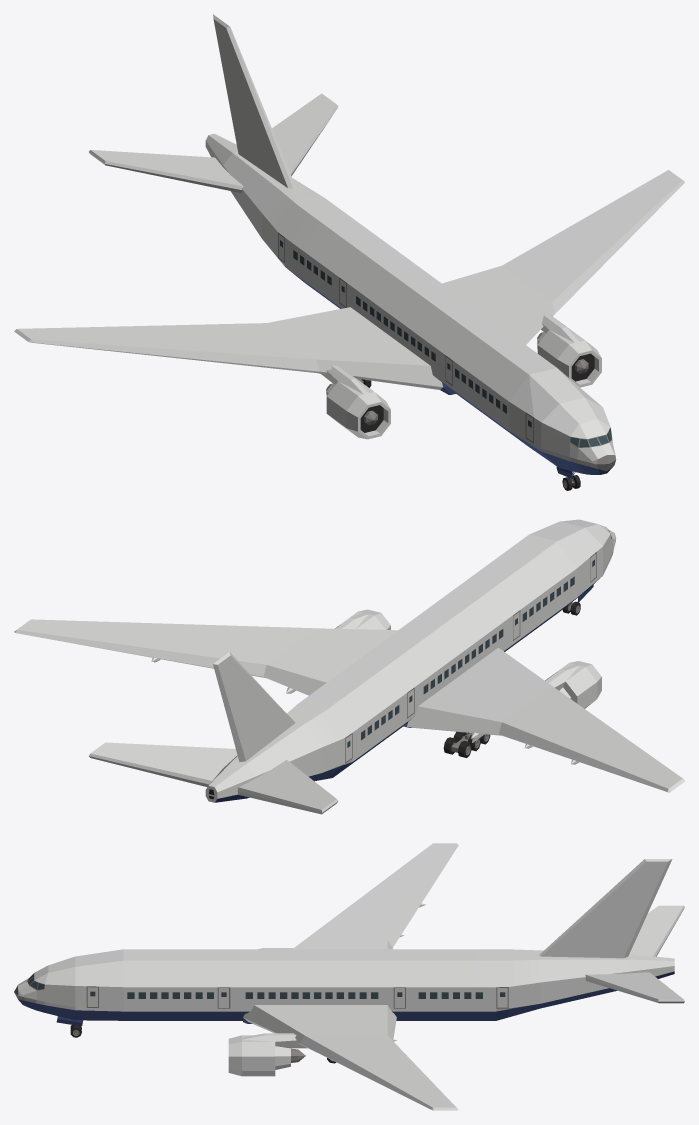
File: vehicles_plane-passenger.fbx
3 views of the same model, one above another, from view 1: azimuth 30°, elevation 25°; view 2: azimuth 150°, elevation 25°; view 3: azimuth 270°, elevation 25° (orthographic). The views are drawn at different scales.
Parts seen in each view (by area): view 1: plane_passenger_base; view 2: plane_passenger_base; view 3: plane_passenger_base.
Part boxes in pixels (box(x1,y1,x2,y2)): plane_passenger_base: box(14, 14, 684, 483); plane_passenger_base: box(14, 519, 684, 814); plane_passenger_base: box(14, 843, 684, 1110).
Bounding box in the file's own units: 188 × 58.05 × 200.
